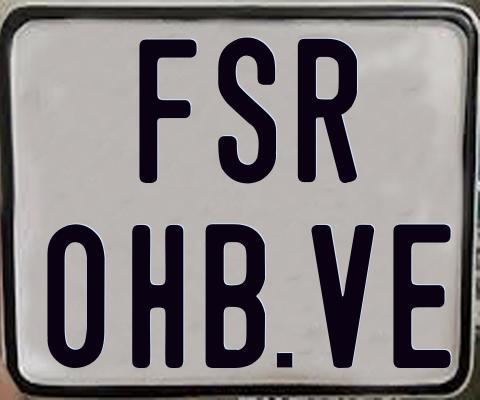0: (47, 221, 109, 365)
B: (204, 222, 267, 368)
E: (391, 223, 452, 373)
F: (136, 37, 196, 181)
H: (131, 225, 184, 370)
R: (297, 39, 361, 189)
S: (218, 34, 277, 187)
V: (309, 222, 376, 369)
